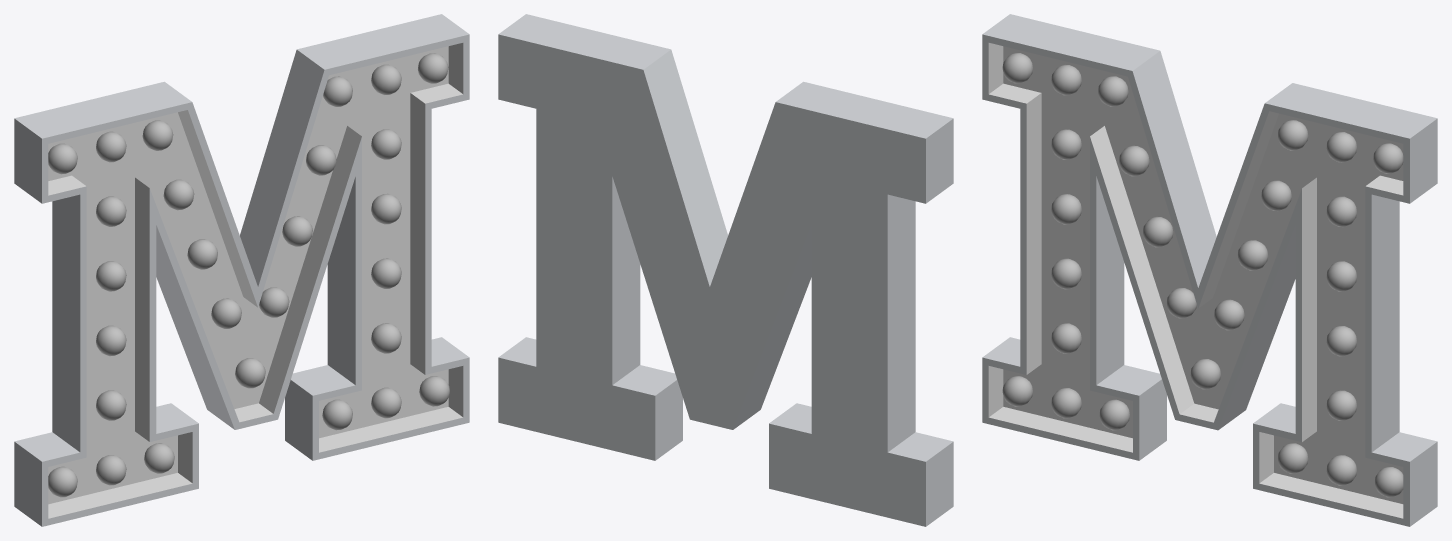
Rendered from LettersBulb01_M.FBX.
3 renders of one model, left to right at view 1: azimuth 30°, elevation 25°; view 2: azimuth 150°, elevation 25°; view 3: azimuth 330°, elevation 25°, orthographic.
Visible parts, largest first — view 1: LettersBulb01_M; view 2: LettersBulb01_M; view 3: LettersBulb01_M.
Part boxes in pixels (bbox=[...]): LettersBulb01_M: bbox=[14, 14, 469, 526]; LettersBulb01_M: bbox=[498, 14, 953, 526]; LettersBulb01_M: bbox=[982, 14, 1437, 526].
Size of what is drawn, in the model's own units: 1.38 by 1.2 by 0.1563.
